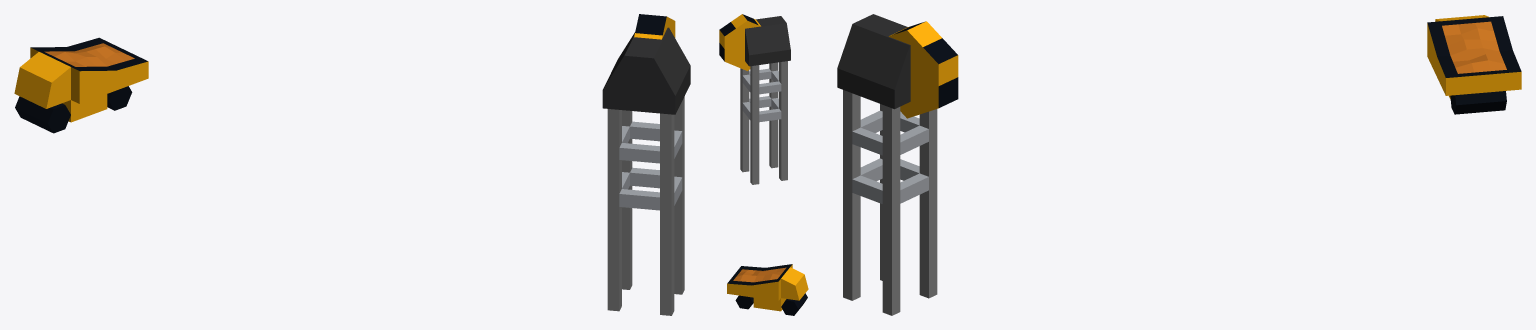
File: Border_15_exploring.fbx
3 renders of one model, left to right at view 1: azimuth 30°, elevation 25°; view 2: azimuth 150°, elevation 25°; view 3: azimuth 270°, elevation 25°, orthographic. The views are drawn at different scales.
Parts seen in each view (by area): view 1: Cube.032, Cube.033, Cylinder.015; view 2: Cube.032, Cube.033, Cylinder.015; view 3: Cube.032, Cube.033, Cylinder.015.
Boxes of the visible parts, box(x1,y1,x2,y2) form: Cube.032: box(602, 27, 690, 315); Cube.033: box(14, 37, 148, 133); Cylinder.015: box(634, 14, 675, 39); Cube.032: box(740, 16, 790, 184); Cube.033: box(727, 264, 808, 315); Cylinder.015: box(719, 14, 760, 70); Cube.032: box(837, 14, 937, 315); Cube.033: box(1427, 15, 1521, 114); Cylinder.015: box(888, 21, 958, 118).
Bounding box in the file's own units: 243 × 158 × 349.
